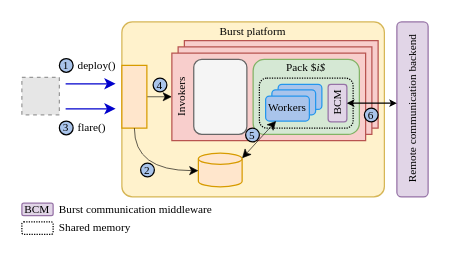
The diagram is 450 pixels wide and 256 high, and some of its shapes have lost their labels. Grey dashed boxes stand in for pictures. The shapes that lost their labels are listed below. From the top down, each one's centre as x and y in pixels, then its label:
[134,96]: Controller
[219,96]: Pack (another burst)
[219,169]: - Burst definitions - Results - Metadata
